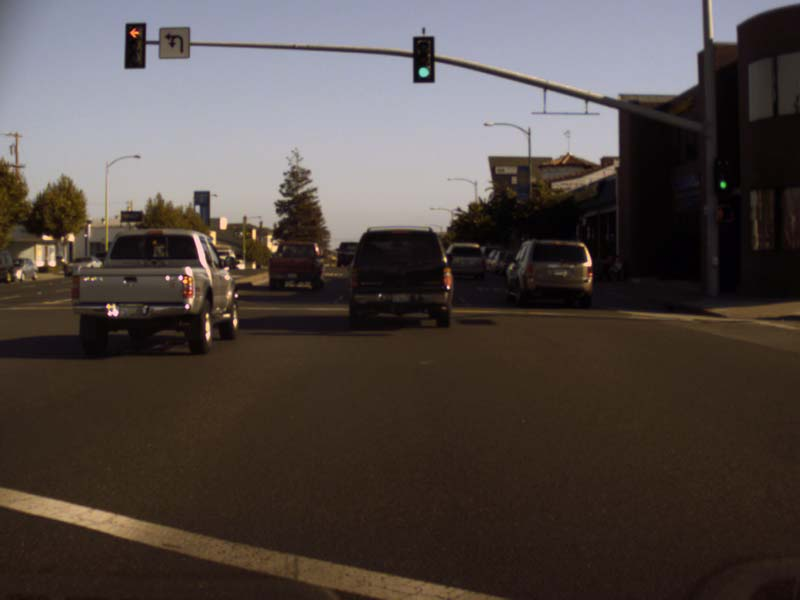Green: (412, 35, 434, 83), (714, 159, 731, 191)
Red: (124, 21, 146, 67)
